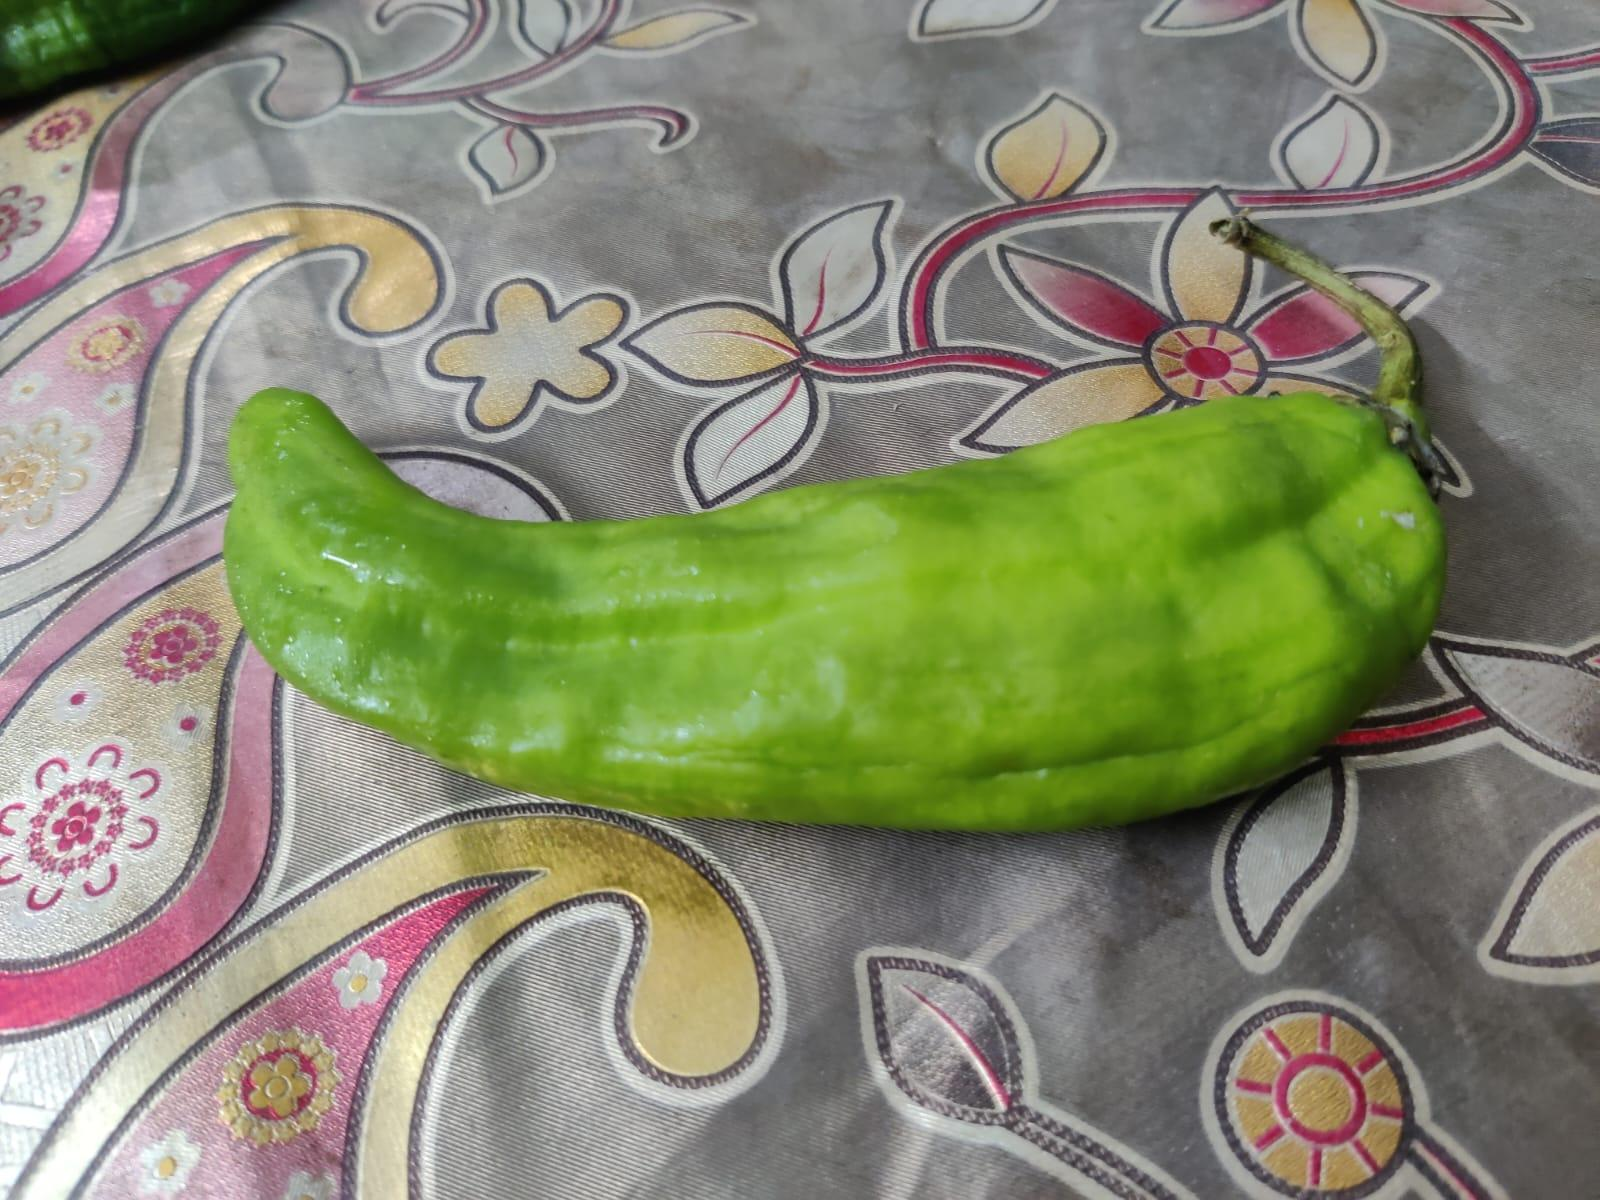non-mango: (223, 378, 1463, 834)
